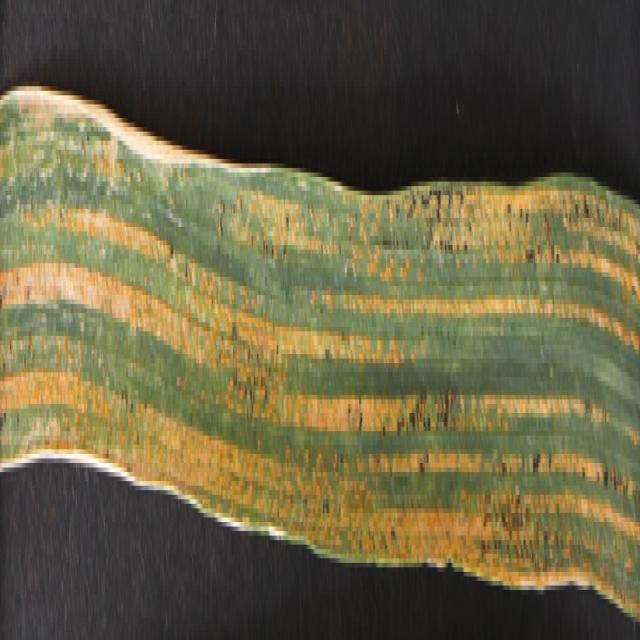leaf rust: (1, 145, 640, 599)
